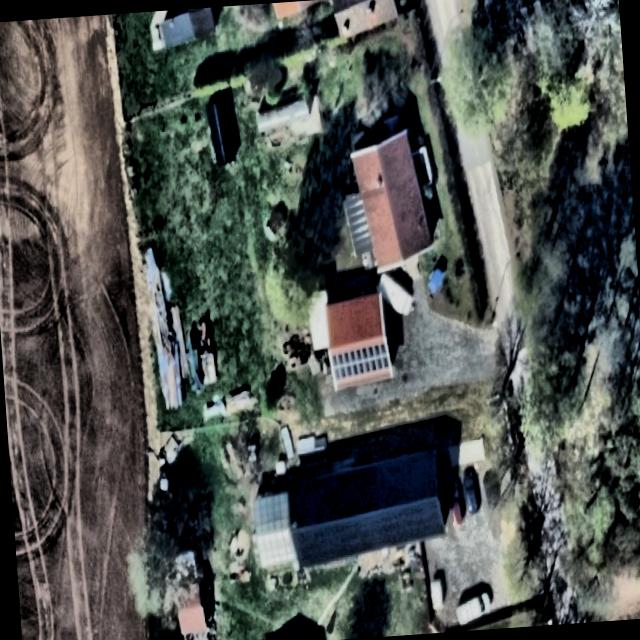roof_pv: (327, 340, 395, 386)
